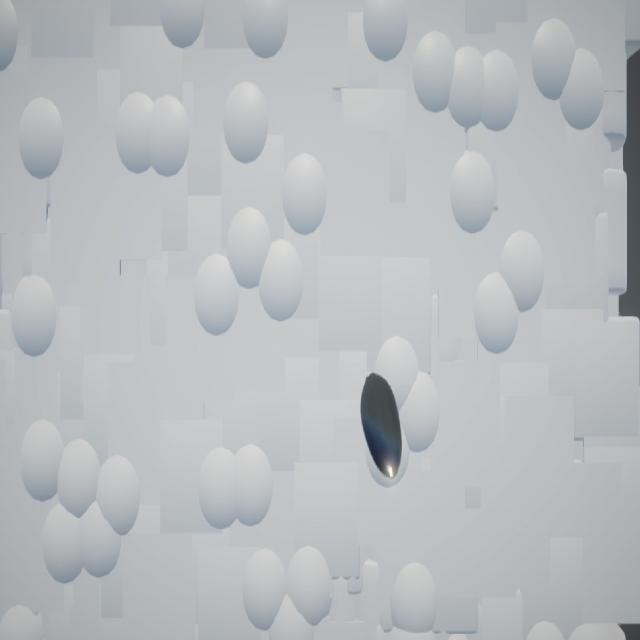top_spoon: (361, 373, 403, 480)
